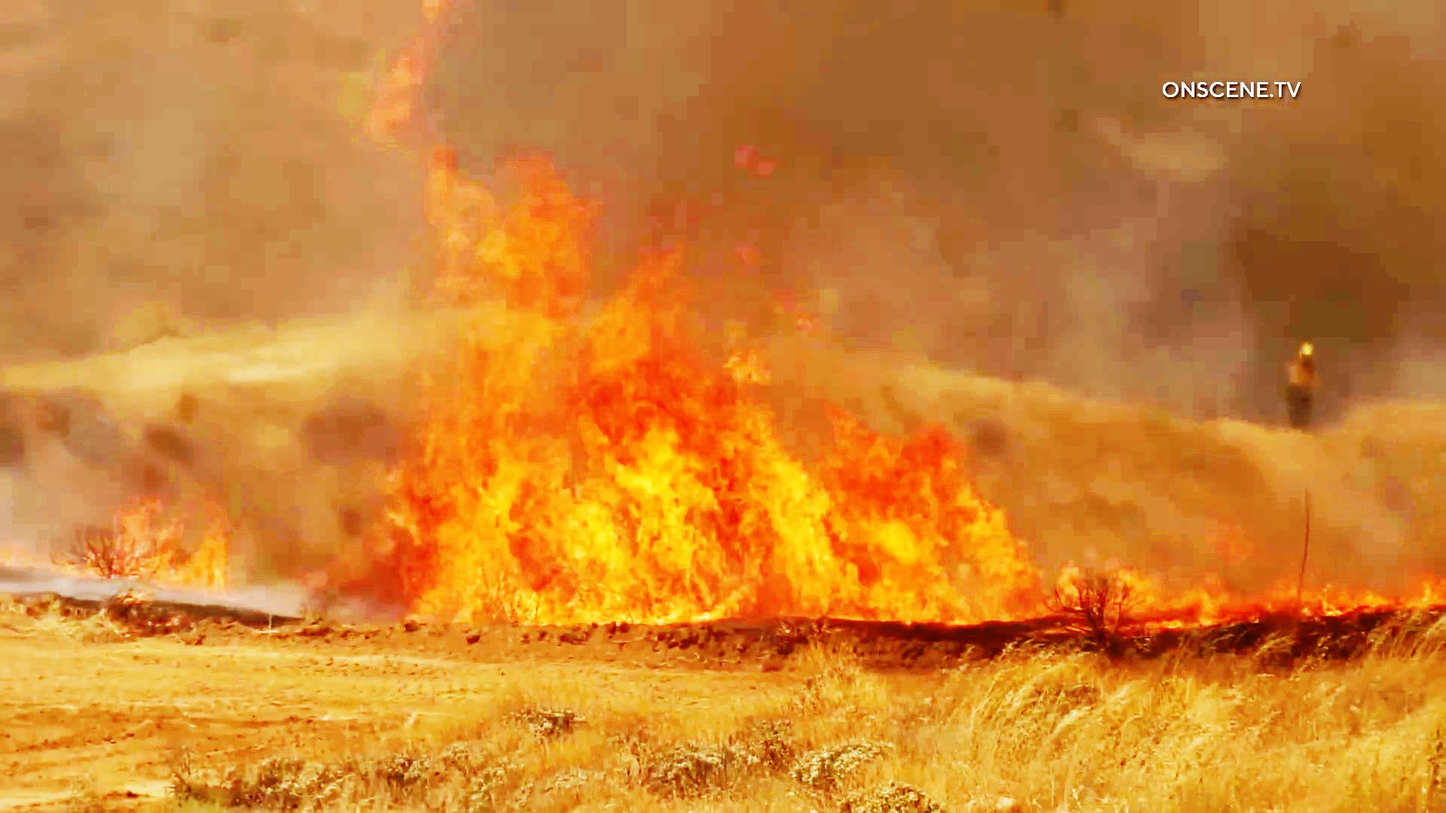fire: (349, 14, 1049, 621), (1079, 525, 1446, 636), (43, 482, 251, 609)
